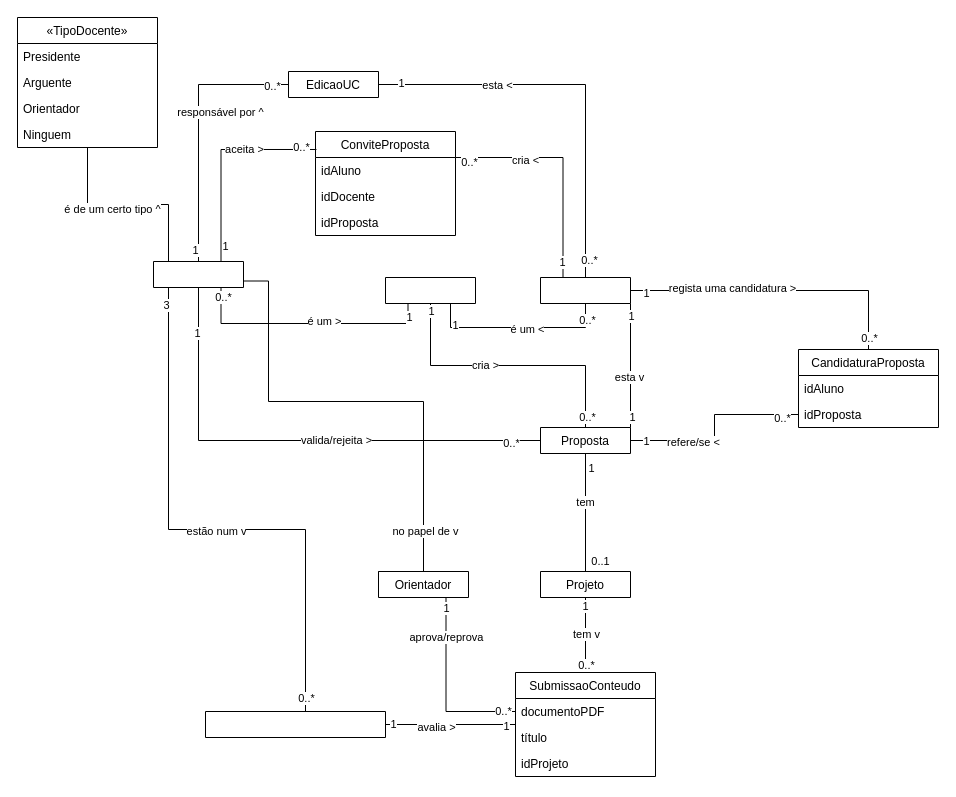
Image size: 956x797. Some labels were removed from this diagram. The box of each missing label's shape, as (x1, y1, x2, y2) in pixels:
Aluno: (540, 276, 630, 304)
Docente: (152, 260, 244, 288)
MomentoAvaliacaoProjeto: (204, 710, 386, 738)
Utilizador: (384, 276, 476, 304)
